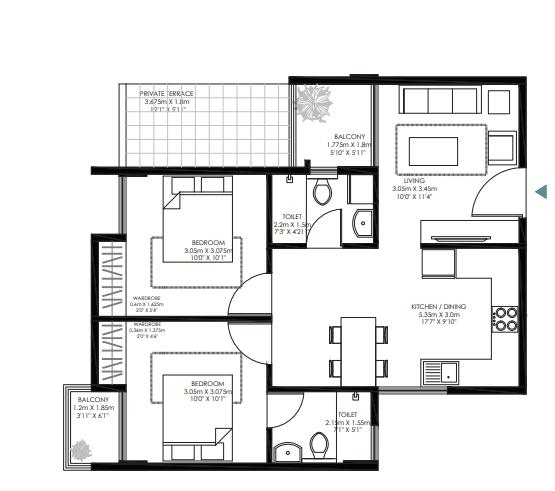Balcony: (296, 86, 377, 169), (66, 387, 117, 469)
Bed: (162, 371, 233, 461), (160, 178, 234, 261)
Bedroom: (127, 325, 268, 467), (125, 178, 271, 314)
Dining Room: (274, 249, 421, 389)
Dining table: (318, 311, 391, 387)
Kitchen: (421, 252, 519, 386)
Living Room: (381, 89, 519, 246)
Sofa: (398, 85, 486, 115), (484, 131, 520, 166)
Terrace: (124, 83, 292, 167)
Wardrobe: (99, 242, 126, 317), (101, 323, 126, 384)
commode: (311, 435, 327, 458), (315, 180, 329, 206)
door: (472, 168, 525, 217), (230, 274, 271, 313), (230, 325, 271, 362), (308, 209, 340, 248), (268, 395, 302, 427)
kitchen-slab: (488, 251, 520, 389), (456, 249, 517, 279), (458, 360, 516, 389)
sink: (421, 358, 459, 385), (272, 443, 302, 463), (355, 209, 375, 237)
stove: (490, 307, 519, 332)
toilet: (270, 394, 369, 464), (274, 175, 374, 244)
tv: (419, 221, 502, 245)
